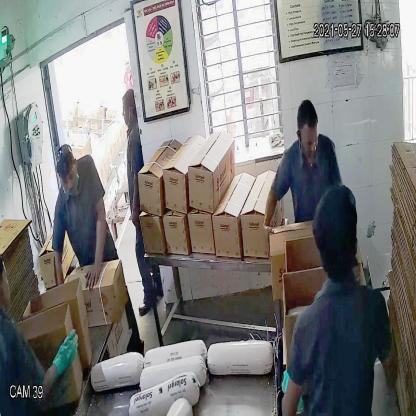no_goggles: (57, 169, 80, 187), (296, 132, 319, 148)
